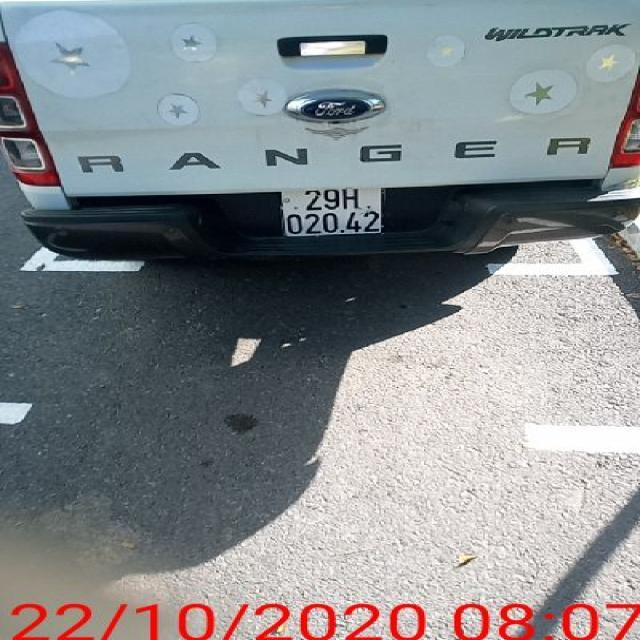bien_so_oto: (277, 185, 388, 240)
